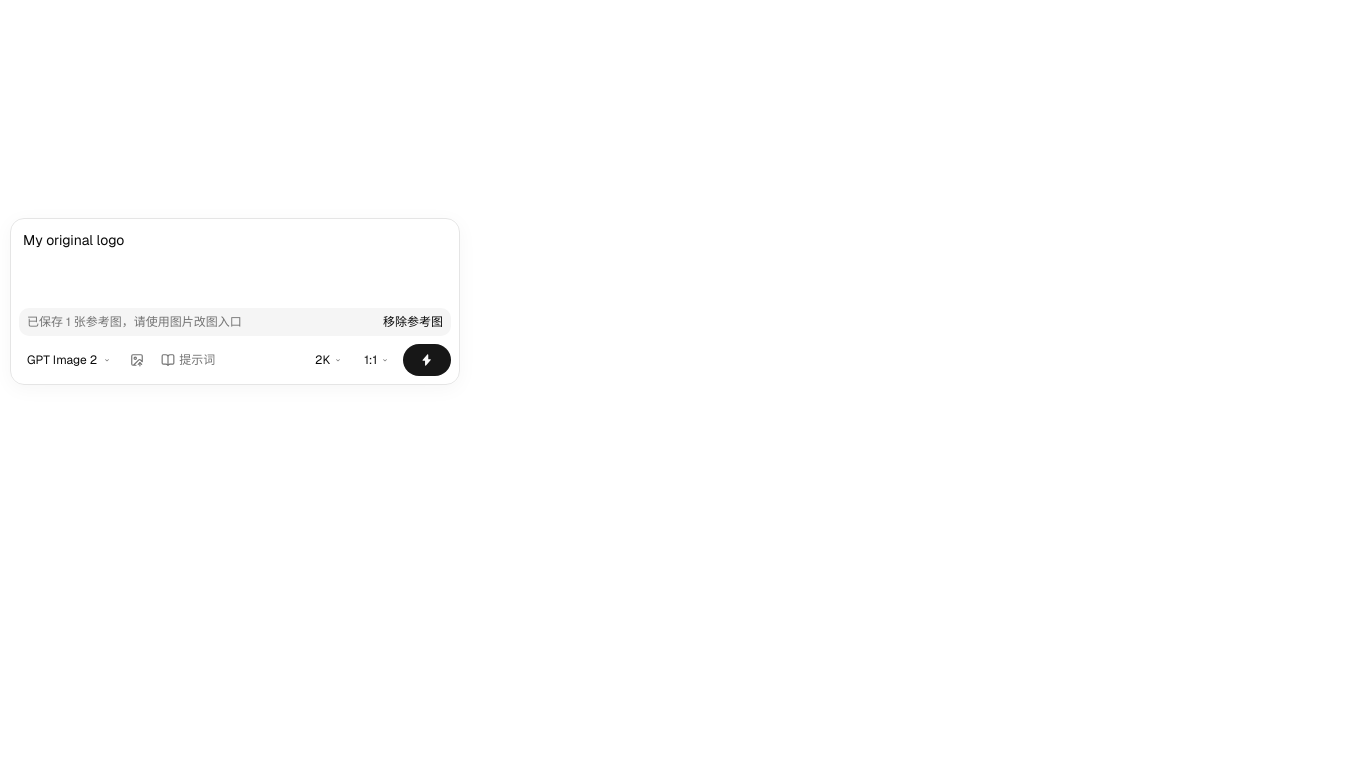
Test: image generator prompt library › applies 替换当前提示词 only to the targeted node and keeps its model, ratio, quality and references
Click the button with aria-label "打开提示词库": [188, 360] box [153,344,223,376]
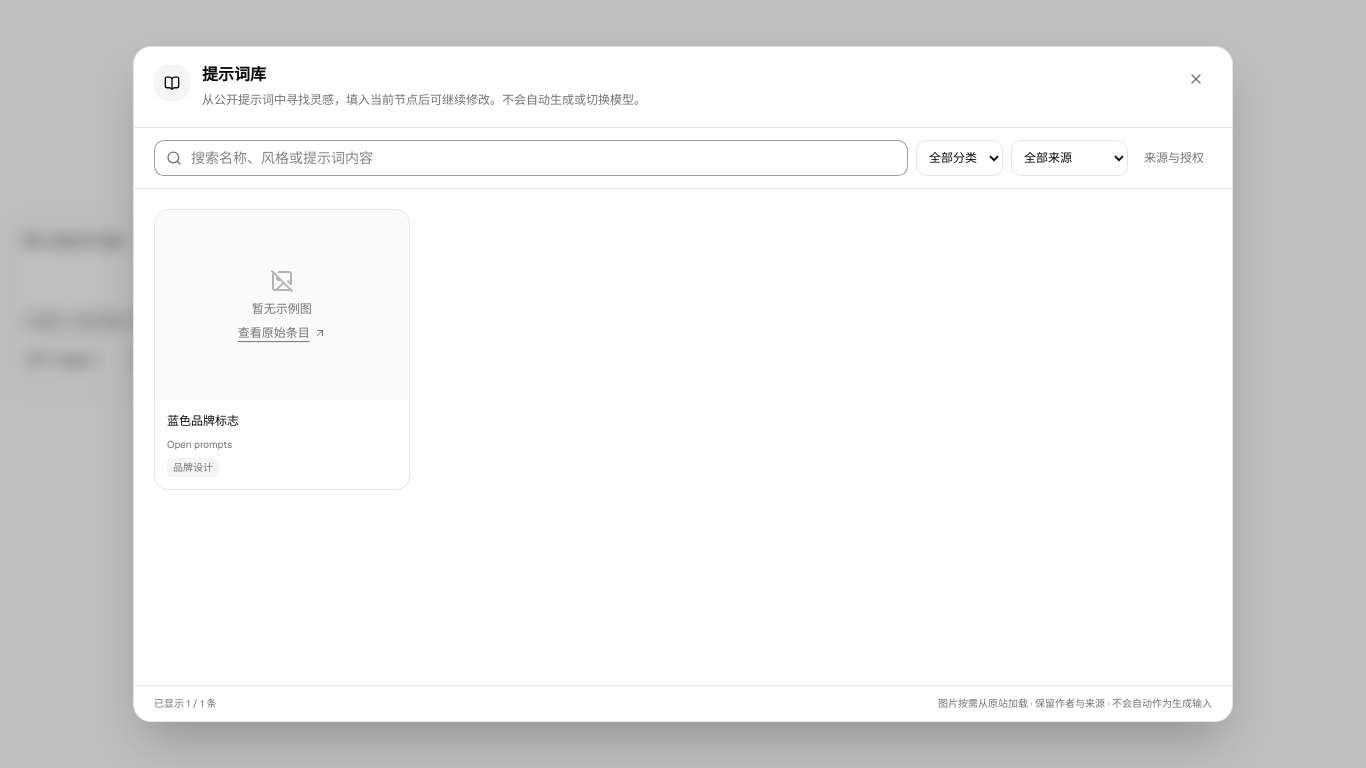
Click the button "蓝色品牌标志 Open prompts 品牌设计": [282, 444] box [155,400,408,489]
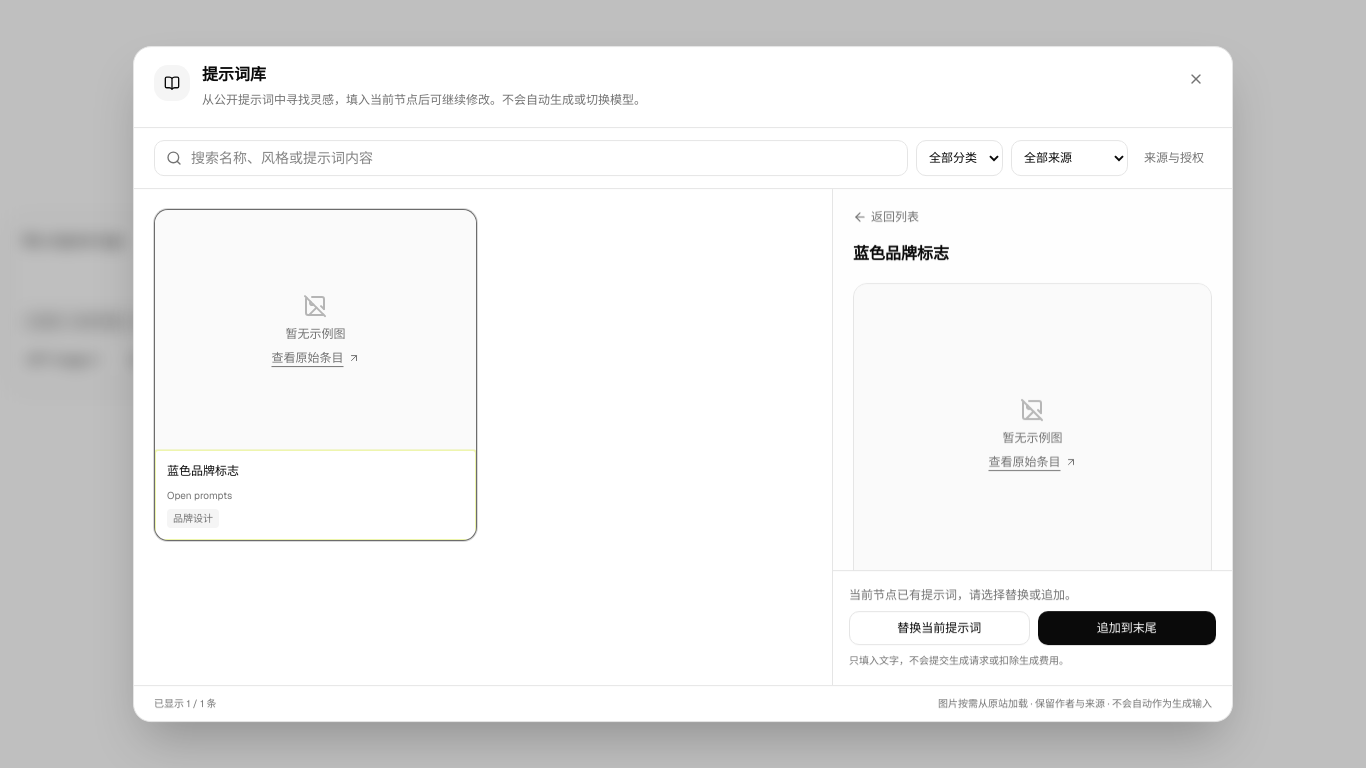
Click the button "替换当前提示词": [939, 628] box [849,611,1030,645]
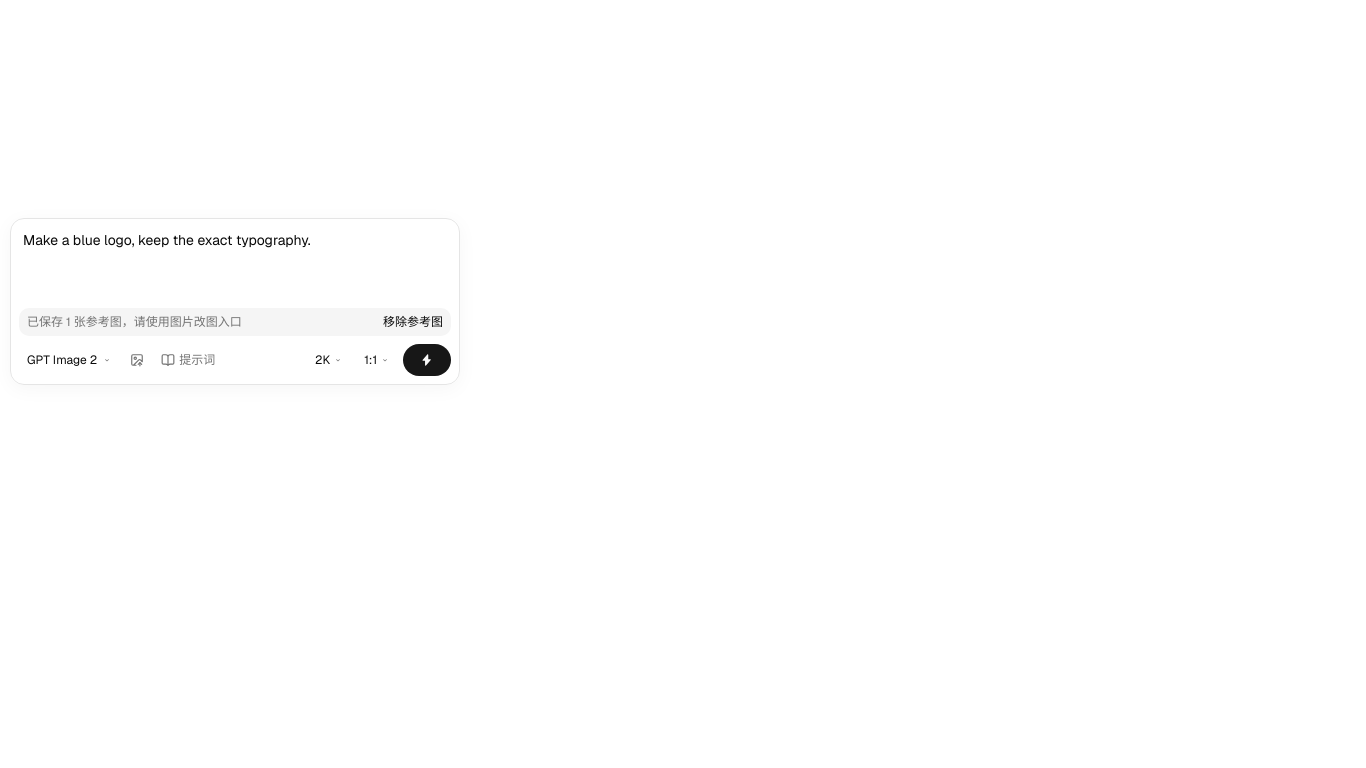
Check: the text box named "图片生成提示词" holds "Make a blue logo, keep the exact typography.", box [19,227,451,301]
Check: the dialog is gone
